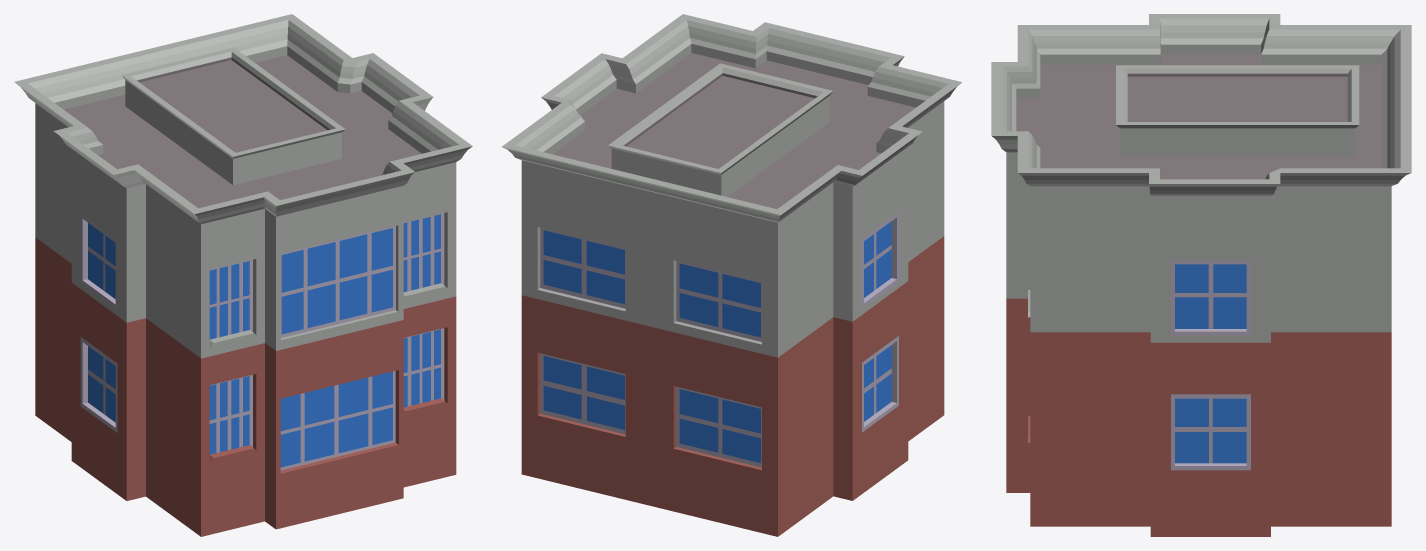
Rendered from building_1x1_5_r.glb.
3 renders of one model, left to right at view 1: azimuth 30°, elevation 25°; view 2: azimuth 150°, elevation 25°; view 3: azimuth 270°, elevation 25°, orthographic. The views are drawn at different scales.
Visible parts, largest first — view 1: ThirdFloor; view 2: ThirdFloor; view 3: ThirdFloor.
Boxes of the visible parts, left/top/right/bottom form: ThirdFloor: left=14, top=14, right=472, bottom=536; ThirdFloor: left=502, top=14, right=962, bottom=536; ThirdFloor: left=991, top=14, right=1411, bottom=536.
Size of the model in its own units: 1.75 by 1.74 by 1.82.
